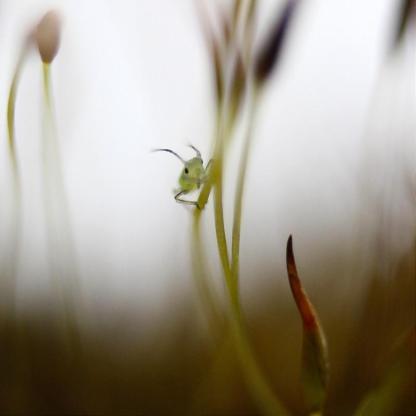aphid: (146, 140, 221, 216)
